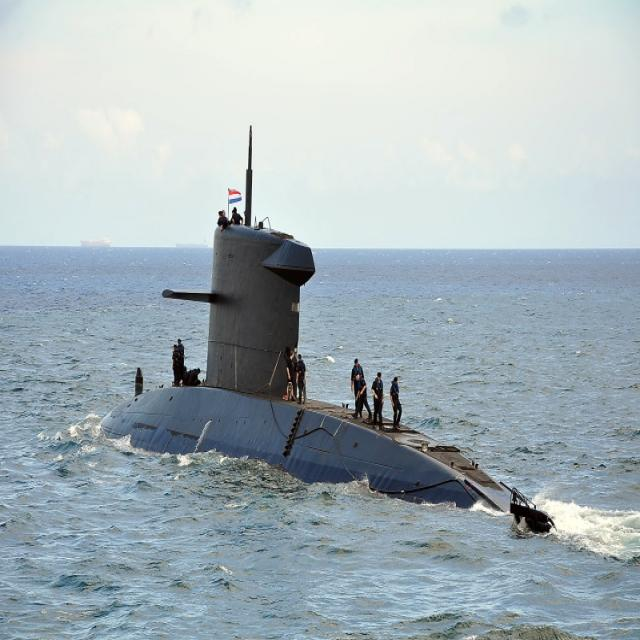submarine: (99, 225, 520, 516)
